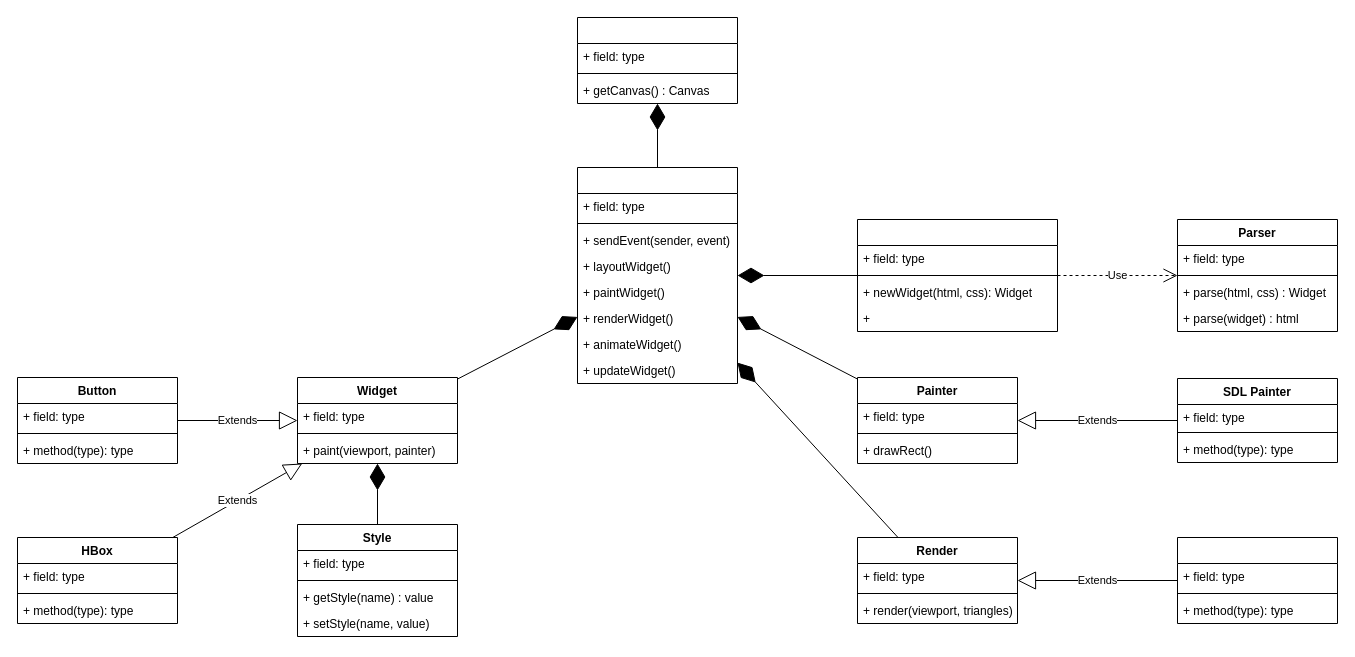
This 1355x657 diagram has some shape labels left out. The shapes that lost their labels are listed below. From the top down, each one's box as (x1, y1, x2, y2) in pixels, then its label:
(576, 16, 738, 104): Device
(576, 166, 738, 384): Canvas
(856, 218, 1058, 332): Builder
(1176, 536, 1338, 624): SDL Render
